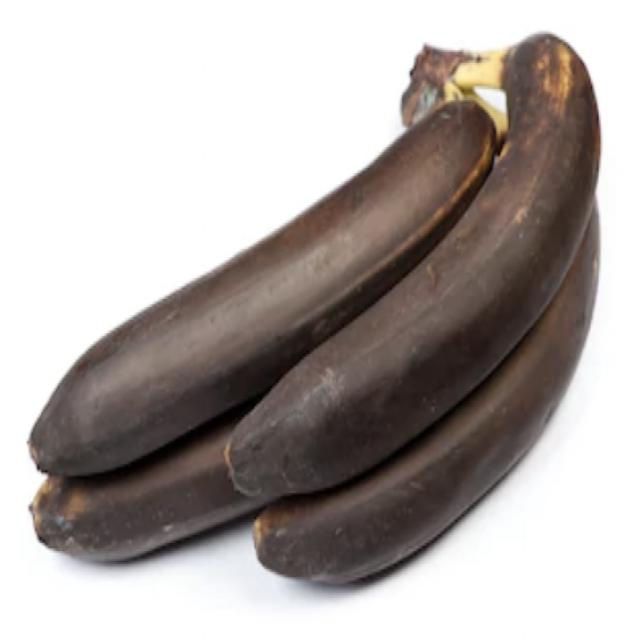rotten-banana: (4, 87, 490, 439), (227, 31, 596, 474), (258, 397, 604, 587), (36, 421, 212, 594)
